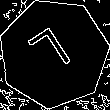L_SE: (27, 24, 80, 83)
